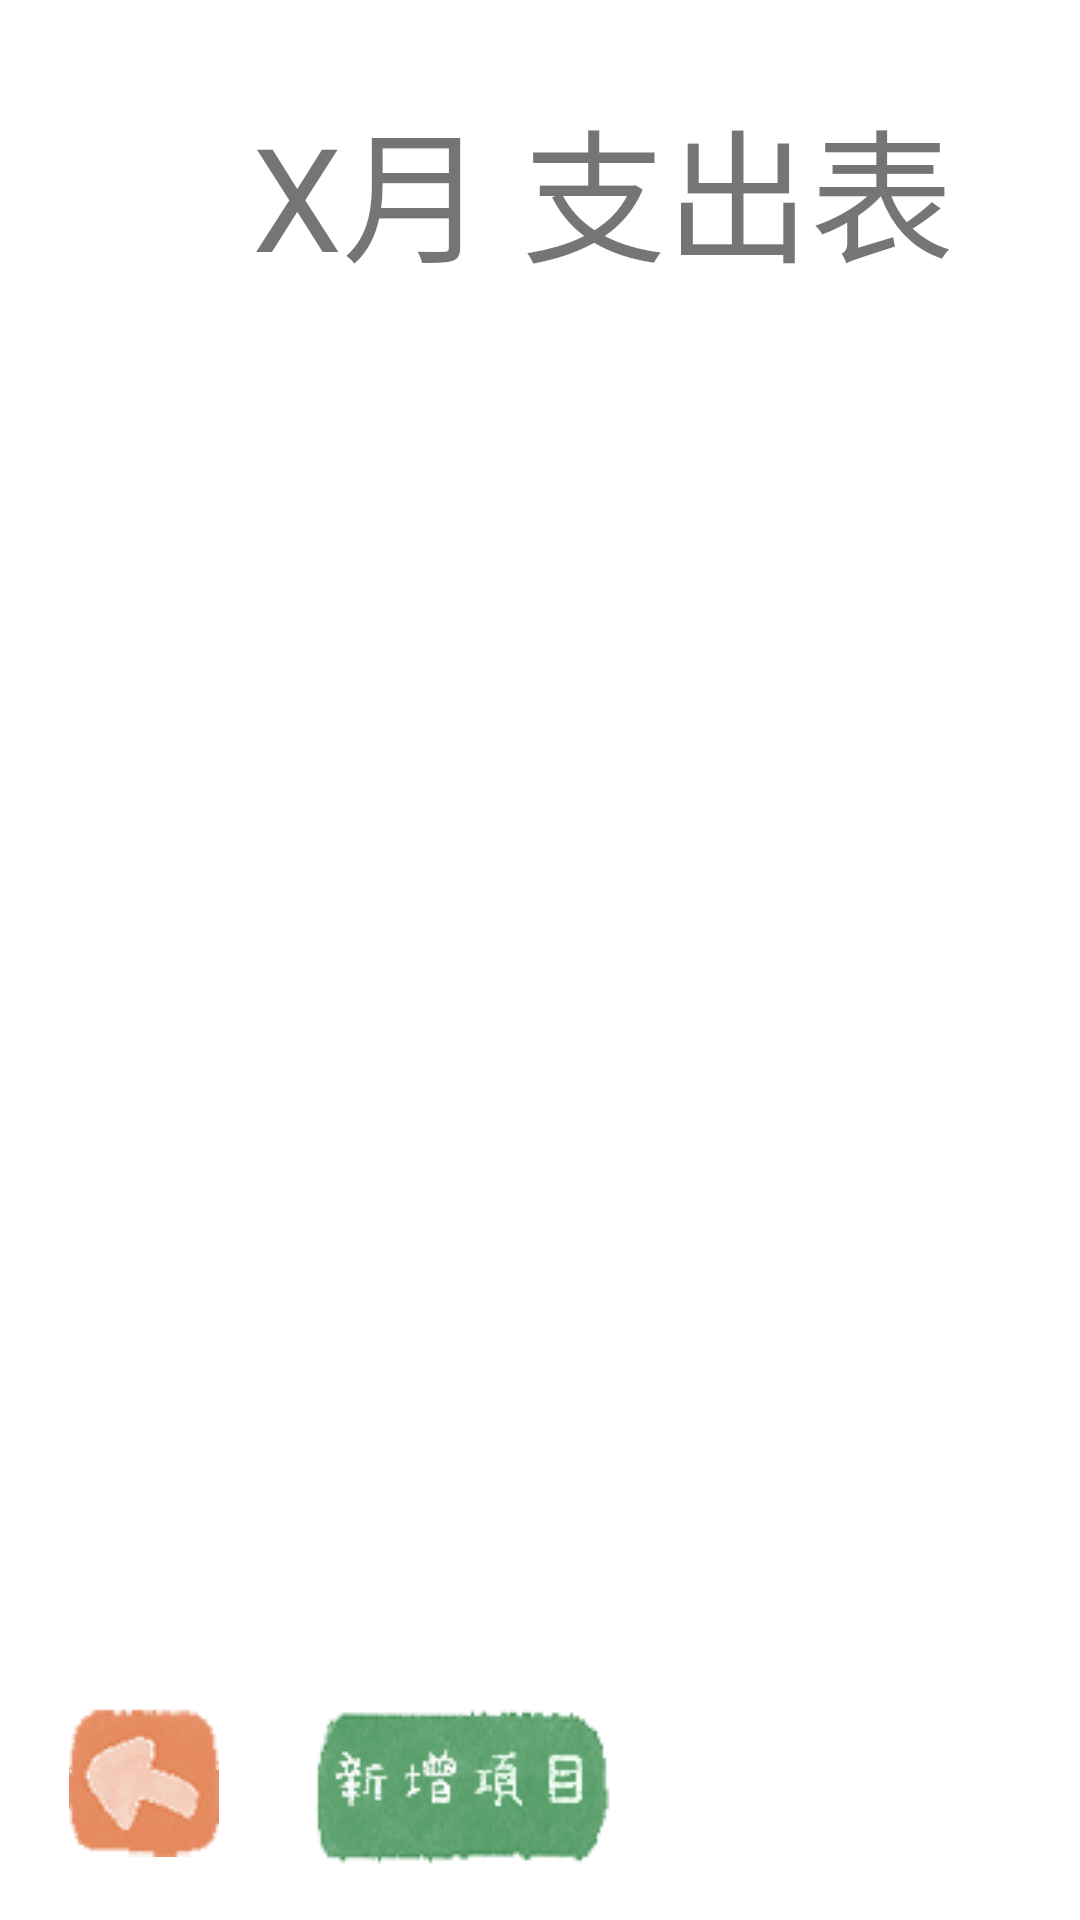

Icons on this 1080px x 1920px Android screen, each with its box as (x1, y1, x2, y2):
back: (69, 1709, 219, 1857)
